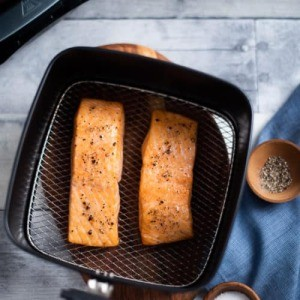salmon_brain food: (60, 97, 126, 248), (133, 119, 202, 246)
